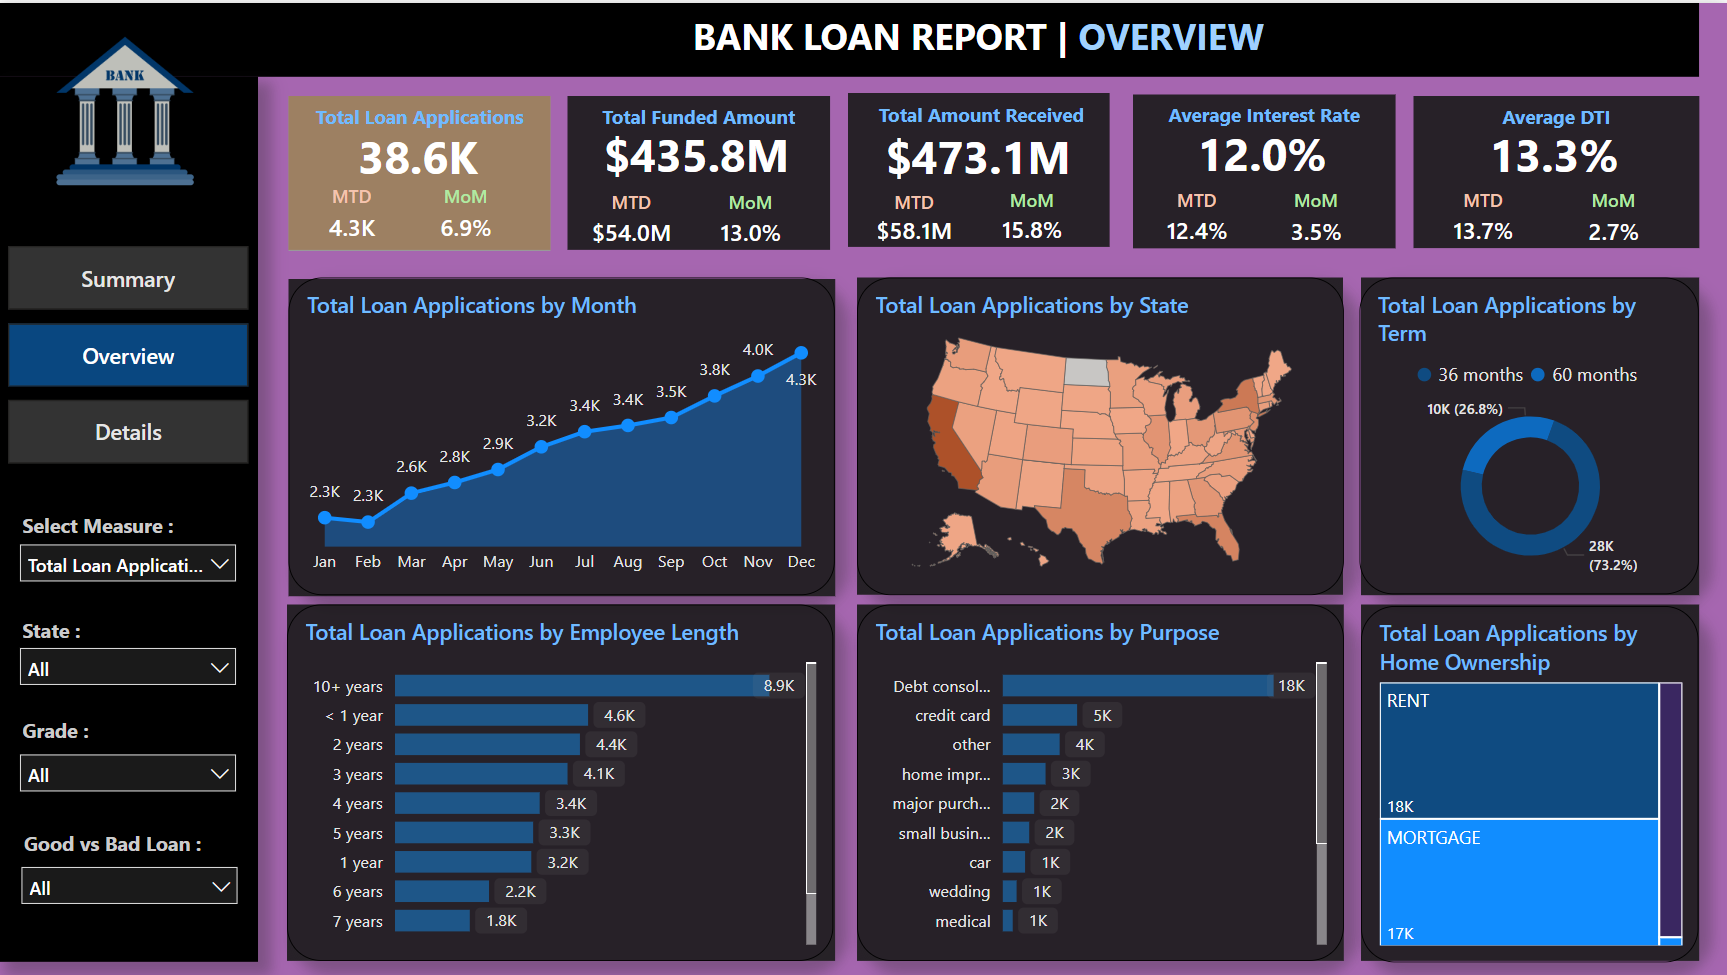

Layout of this report page (visuals, bound fields, positions):
{"tool":"powerbi","page":{"name":"Overview","canvas":[1280,720],"ordinal":2},"visuals":[{"type":"shape","box":[629.2,66.4,193.8,114.2],"z":0,"group":"g3"},{"type":"shape","box":[839.7,67.5,194.5,114],"z":0,"group":"g4"},{"type":"shape","box":[214.3,68.6,194.3,114.3],"z":0,"group":"g1"},{"type":"shape","box":[421.4,68.6,194.5,114],"z":0,"group":"g2"},{"type":"shape","box":[1047.5,69,211.7,112.9],"z":0,"group":"g5"},{"type":"shape","box":[214.3,204.3,405,235],"z":0},{"type":"shape","box":[0,0,1259.3,54.7],"z":1000},{"type":"card","fields":{"Values":["table_measures.avg_interest_rate"]},"box":[851.5,82.1,165.9,58.4],"z":1000,"group":"g4"},{"type":"card","fields":{"Values":["table_measures.total_loan_appl"]},"box":[247.2,83.2,124.3,61.3],"z":1000,"group":"g1"},{"type":"card","fields":{"Values":["table_measures.total_funded_amt"]},"box":[433.2,83.2,165.9,58.4],"z":1000,"group":"g2"},{"type":"card","fields":{"Values":["table_measures.avg_DTI"]},"box":[1060.3,83.4,180.6,57.8],"z":1000,"group":"g5"},{"type":"card","fields":{"Values":["table_measures.total_received_amt"]},"box":[643.2,85.3,163.1,55.8],"z":1000,"group":"g3"},{"type":"shape","box":[0,54.7,191.9,655.8],"z":2000},{"type":"textbox","box":[632.2,67,191,41.6],"z":2000,"group":"g3"},{"type":"textbox","box":[839.7,67.5,194.5,38.9],"z":2000,"group":"g4"},{"type":"textbox","box":[214.3,68.6,194.3,39],"z":2000,"group":"g1"},{"type":"textbox","box":[421.4,68.6,194.5,38.9],"z":2000,"group":"g2"},{"type":"textbox","box":[1047.5,69,211.7,38.5],"z":2000,"group":"g5"},{"type":"card","title":"MTD","fields":{"Values":["table_measures.MTD_loan_appl"]},"box":[235.7,132.7,51.4,50.2],"z":3000,"group":"g1"},{"type":"card","title":"MTD","fields":{"Values":["table_measures.MTD_interest_rate"]},"box":[851.5,136.3,70.1,48.6],"z":3000,"group":"g4"},{"type":"card","title":"MTD","fields":{"Values":["table_measures.MTD_received_amt"]},"box":[643.2,137.1,68.9,46.5],"z":3000,"group":"g3"},{"type":"card","title":"MTD","fields":{"Values":["table_measures.MTD_avg_DTI"]},"box":[1060.3,137.1,76.3,48.2],"z":3000,"group":"g5"},{"type":"card","title":"MTD","fields":{"Values":["table_measures.MTD_funded_amt"]},"box":[433.2,137.4,70.1,48.6],"z":3000,"group":"g2"},{"type":"textbox","box":[12.4,448.7,119.7,38.5],"z":3000},{"type":"textbox","box":[509.2,1.4,447.3,49.5],"z":4000},{"type":"card","title":"MoM","fields":{"Values":["table_measures.MOM_loan_appl"]},"box":[320,132.7,51.4,50.2],"z":4000,"group":"g1"},{"type":"card","title":"MoM","fields":{"Values":["table_measures.MOM_interest_rate"]},"box":[946.6,136.1,57.8,49.7],"z":4000,"group":"g4"},{"type":"card","title":"MoM","fields":{"Values":["table_measures.MOM_received_amt"]},"box":[736.7,136.9,56.8,47.5],"z":4000,"group":"g3"},{"type":"card","title":"MoM","fields":{"Values":["table_measures.MOM_avg_DTI"]},"box":[1163.9,136.9,62.9,49.2],"z":4000,"group":"g5"},{"type":"card","title":"MoM","fields":{"Values":["table_measures.MOM_funded_amt"]},"box":[528.3,137.2,57.8,49.7],"z":4000,"group":"g2"},{"type":"group","id":"g1","title":"Group 1","box":[214.3,68.6,194.3,114.3],"z":5000},{"type":"group","id":"g2","title":"Group 1","box":[421.4,68.6,194.3,118],"z":6000},{"type":"group","id":"g3","title":"Group 1","box":[629.2,66.4,194,118],"z":7000},{"type":"group","id":"g4","title":"Group 1","box":[839.7,67.5,194.5,118.2],"z":8000},{"type":"group","id":"g5","title":"Group 1","box":[1047.5,69,211.5,116.9],"z":9000},{"type":"shape","box":[635.9,203.7,360,235],"z":10000},{"type":"slicer","fields":{"Values":["financial_loan.address_state"]},"box":[5.5,468,180.3,50.9],"z":11000},{"type":"slicer","fields":{"Values":["financial_loan.grade"]},"box":[5.5,546.4,180.3,50.9],"z":12000},{"type":"textbox","box":[12.4,523,119.7,38.5],"z":13000},{"type":"slicer","fields":{"Values":["financial_loan.Good vs Band Loan"]},"box":[6.9,630.4,180.3,50.9],"z":14000},{"type":"textbox","box":[13.8,607,163.8,38.5],"z":15000},{"type":"areaChart","fields":{"Y":["table_measures.total_loan_appl"],"Category":["Date Table.Month"]},"box":[214.7,203.7,404.6,235.4],"z":16000},{"type":"slicer","fields":{"Values":["Select Measure.Select Measure"]},"box":[5.5,390.9,180.3,55.1],"z":17000},{"type":"shape","box":[213.3,445.9,406,264.3],"z":18000},{"type":"shapeMap","fields":{"Value":["table_measures.total_loan_appl"],"Category":["financial_loan.address_state"]},"box":[635.9,203.7,360.6,235.4],"z":19000},{"type":"shape","box":[1008.9,203.7,250.5,235.4],"z":20000},{"type":"donutChart","fields":{"Y":["table_measures.total_loan_appl"],"Category":["financial_loan.term"]},"box":[1008.1,203.5,251.2,234.9],"z":21000},{"type":"barChart","fields":{"Y":["table_measures.total_loan_appl"],"Category":["financial_loan.emp_length"]},"box":[213.3,445.9,404.6,264.3],"z":22000},{"type":"textbox","box":[12.4,371.6,139,38.5],"z":23000},{"type":"shape","box":[635.9,445.9,360.6,264.3],"z":24000},{"type":"barChart","fields":{"Y":["table_measures.total_loan_appl"],"Category":["financial_loan.purpose"]},"box":[635.9,445.9,360.6,264.3],"z":25000},{"type":"shape","box":[1008.9,445.9,250.5,264.3],"z":26000},{"type":"treemap","fields":{"Values":["table_measures.total_loan_appl"],"Group":["financial_loan.home_ownership"]},"box":[1009.3,446.5,250,264],"z":27000},{"type":"pageNavigator","box":[6.9,180.3,178.9,163.8],"z":28000},{"type":"image","box":[0,1.4,187.2,156.9],"z":29000}]}

Visuals, with their boxes on the page's 1280x720 design canvas (x1, y1, x2, y2). These are canvas units, not pixel positions in the 1727x975 screenshot, which may show the page scaled, cropped or inside an application window:
shape: [629,66,823,181]
shape: [840,68,1034,182]
shape: [214,69,409,183]
shape: [421,69,616,183]
shape: [1048,69,1259,182]
shape: [214,204,619,439]
shape: [0,0,1259,55]
card - table_measures.avg_interest_rate: [852,82,1017,140]
card - table_measures.total_loan_appl: [247,83,372,144]
card - table_measures.total_funded_amt: [433,83,599,142]
card - table_measures.avg_DTI: [1060,83,1241,141]
card - table_measures.total_received_amt: [643,85,806,141]
shape: [0,55,192,710]
textbox: [632,67,823,109]
textbox: [840,68,1034,106]
textbox: [214,69,409,108]
textbox: [421,69,616,108]
textbox: [1048,69,1259,108]
"MTD" card: [236,133,287,183]
"MTD" card: [852,136,922,185]
"MTD" card: [643,137,712,184]
"MTD" card: [1060,137,1137,185]
"MTD" card: [433,137,503,186]
textbox: [12,449,132,487]
textbox: [509,1,956,51]
"MoM" card: [320,133,371,183]
"MoM" card: [947,136,1004,186]
"MoM" card: [737,137,794,184]
"MoM" card: [1164,137,1227,186]
"MoM" card: [528,137,586,187]
"Group 1" group: [214,69,409,183]
"Group 1" group: [421,69,616,187]
"Group 1" group: [629,66,823,184]
"Group 1" group: [840,68,1034,186]
"Group 1" group: [1048,69,1259,186]
shape: [636,204,996,439]
slicer - financial_loan.address_state: [6,468,186,519]
slicer - financial_loan.grade: [6,546,186,597]
textbox: [12,523,132,562]
slicer - financial_loan.Good vs Band Loan: [7,630,187,681]
textbox: [14,607,178,646]
areaChart - table_measures.total_loan_appl x Date Table.Month: [215,204,619,439]
slicer - Select Measure.Select Measure: [6,391,186,446]
shape: [213,446,619,710]
shapeMap - table_measures.total_loan_appl x financial_loan.address_state: [636,204,996,439]
shape: [1009,204,1259,439]
donutChart - table_measures.total_loan_appl x financial_loan.term: [1008,204,1259,438]
barChart - table_measures.total_loan_appl x financial_loan.emp_length: [213,446,618,710]
textbox: [12,372,151,410]
shape: [636,446,996,710]
barChart - table_measures.total_loan_appl x financial_loan.purpose: [636,446,996,710]
shape: [1009,446,1259,710]
treemap - table_measures.total_loan_appl x financial_loan.home_ownership: [1009,446,1259,710]
pageNavigator: [7,180,186,344]
image: [0,1,187,158]
